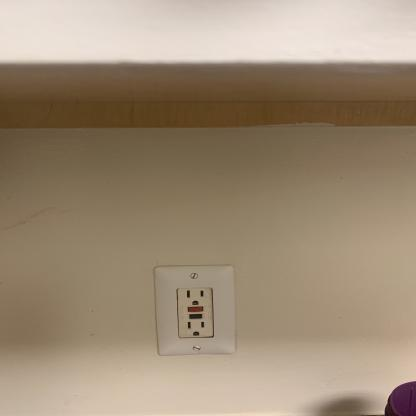OUTLET: (154, 266, 238, 356)
